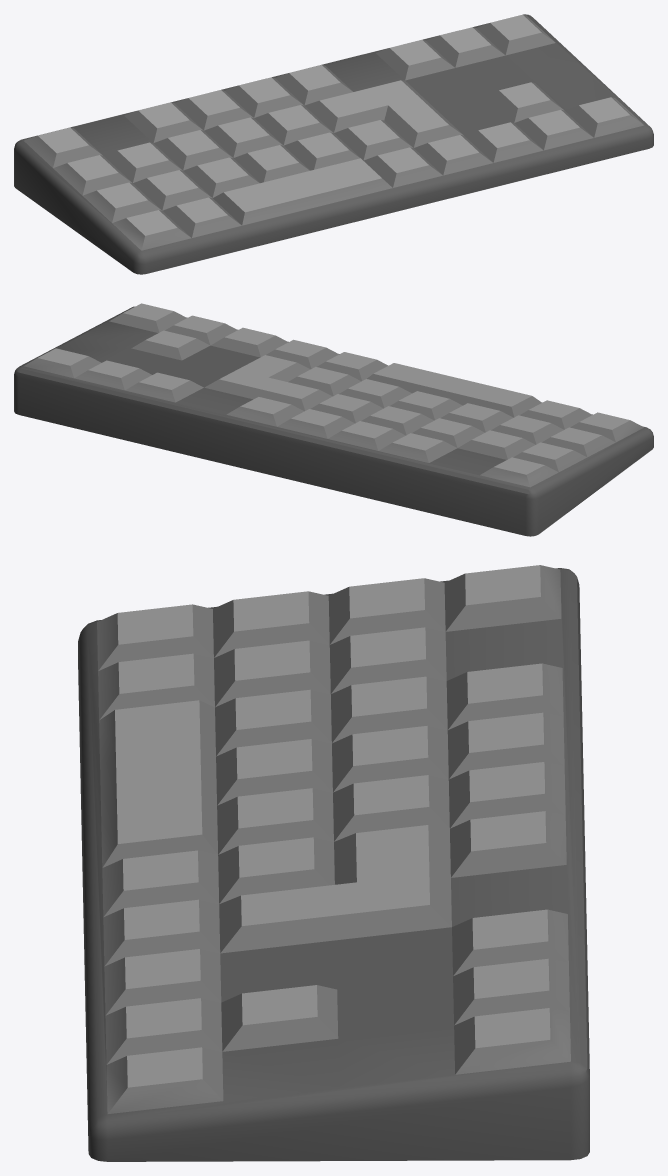
File: Keyboard.fbx
3 renders of one model, top to bottom at view 1: azimuth 30°, elevation 25°; view 2: azimuth 150°, elevation 25°; view 3: azimuth 270°, elevation 25°, orthographic. The views are drawn at different scales.
Visible parts, largest first — view 1: Keyboard; view 2: Keyboard; view 3: Keyboard.
Part boxes in pixels (x1,y1,x2,y2): Keyboard: (14,14,653,274); Keyboard: (14,303,653,536); Keyboard: (78,565,589,1161).
Size of the model in its own units: 0.5306 by 0.0503 by 0.2251.
